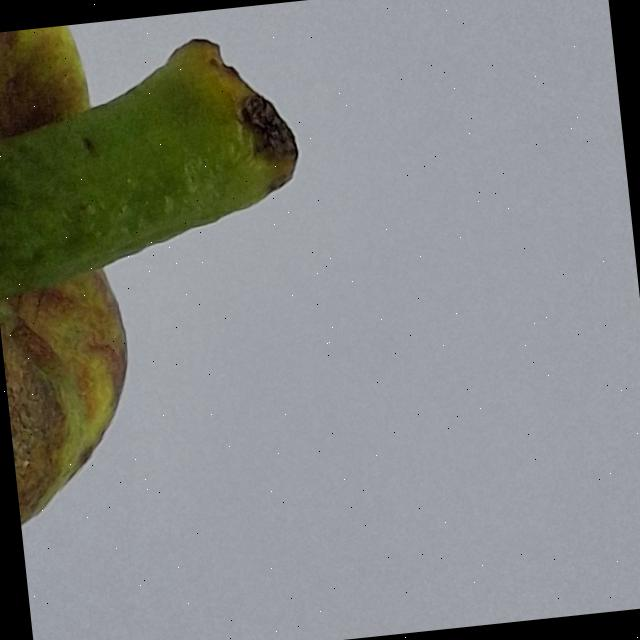mangosteen: (0, 0, 383, 640)
